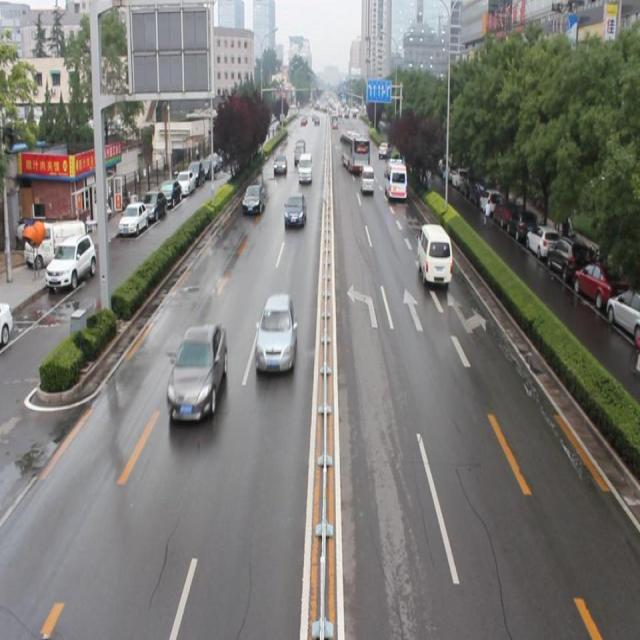car: (165, 322, 228, 422), (254, 291, 297, 376), (282, 193, 306, 229), (242, 182, 266, 215), (273, 154, 288, 174)
truck: (416, 222, 452, 288), (384, 156, 407, 202), (359, 161, 374, 195), (297, 152, 311, 182)
